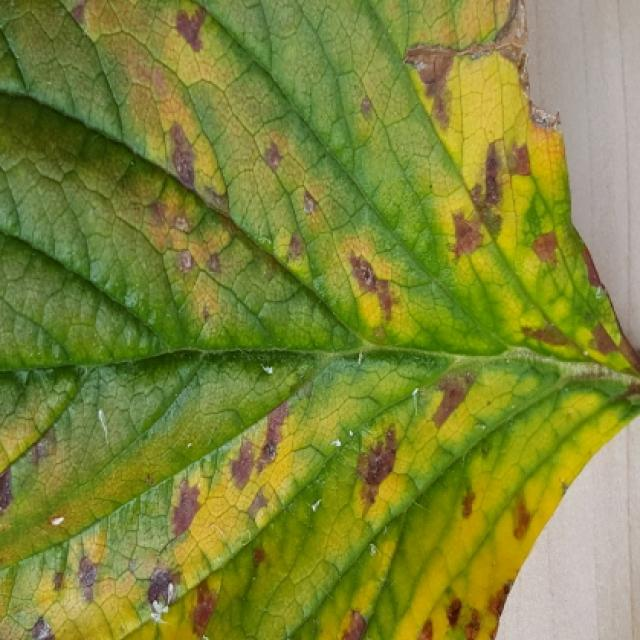Angular Leafspot: (2, 0, 640, 638)
